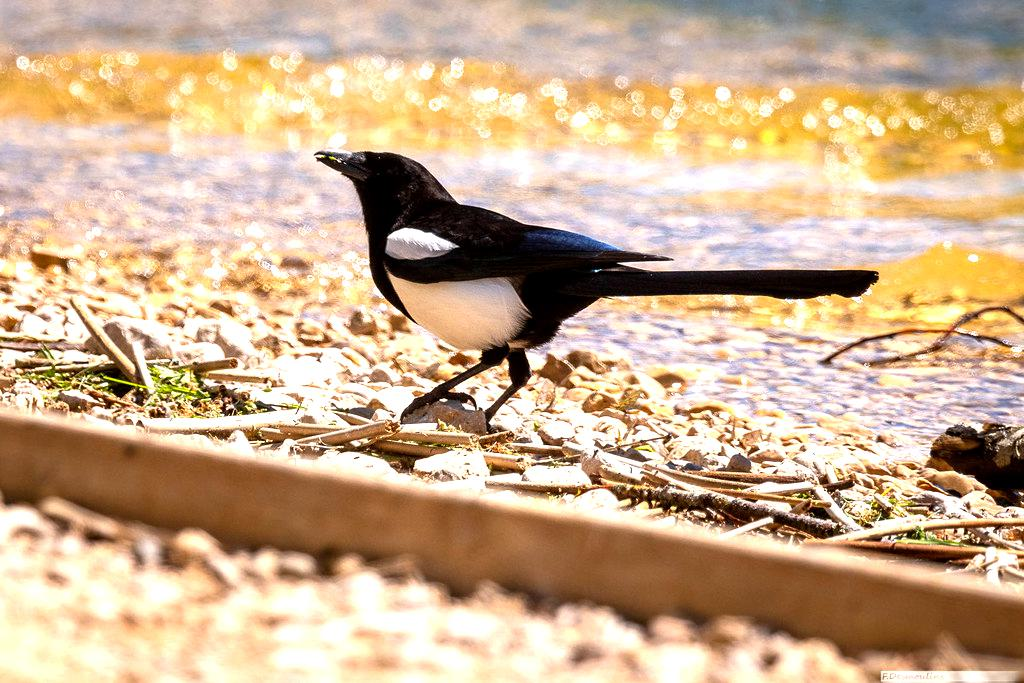PicaPica: (313, 148, 879, 430)
